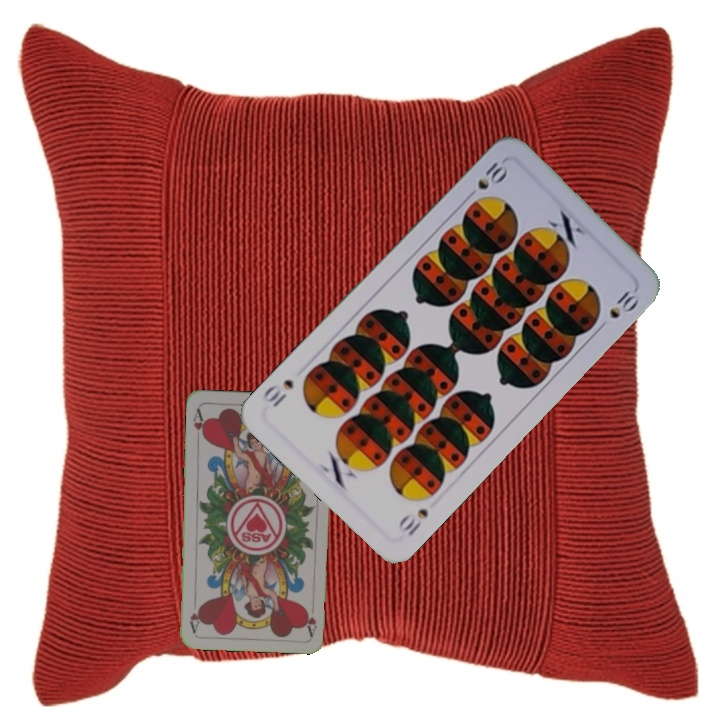HA: (189, 404, 208, 445), (302, 597, 319, 638)
S10: (473, 156, 511, 193), (394, 504, 431, 539)
